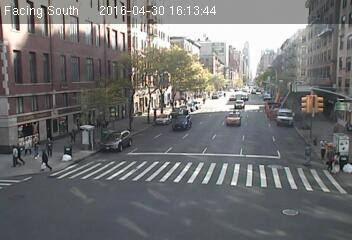neg: (262, 108, 281, 133), (325, 71, 344, 96), (105, 27, 124, 51), (294, 92, 311, 115), (175, 108, 190, 129), (106, 134, 120, 154), (221, 110, 235, 129), (211, 83, 225, 102), (332, 33, 346, 51), (295, 54, 309, 72), (254, 73, 267, 91), (147, 71, 160, 88), (139, 112, 151, 127), (119, 113, 130, 129)
pos: (314, 138, 332, 161), (37, 150, 54, 172), (7, 146, 24, 168), (332, 151, 348, 173), (42, 137, 58, 158), (67, 128, 82, 149), (22, 137, 37, 156)
